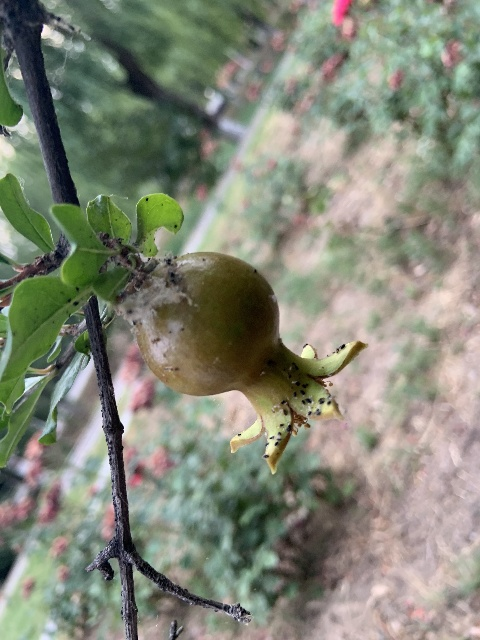early-fruit: (135, 250, 368, 475)
